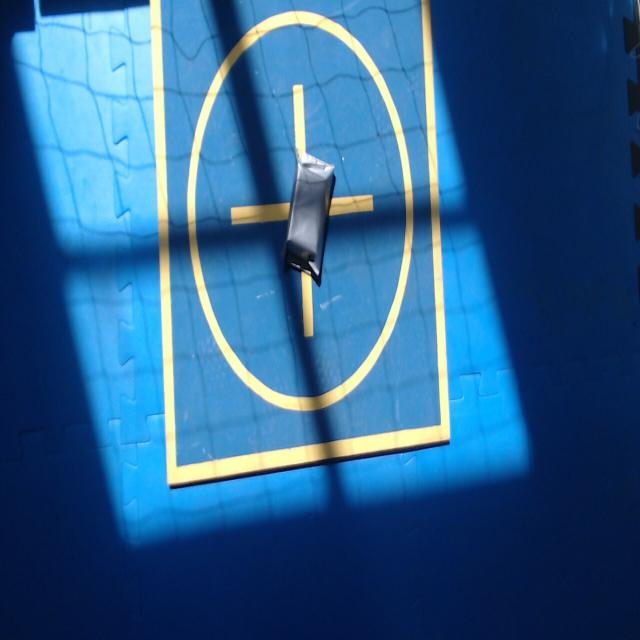lipo: (285, 152, 335, 285)
